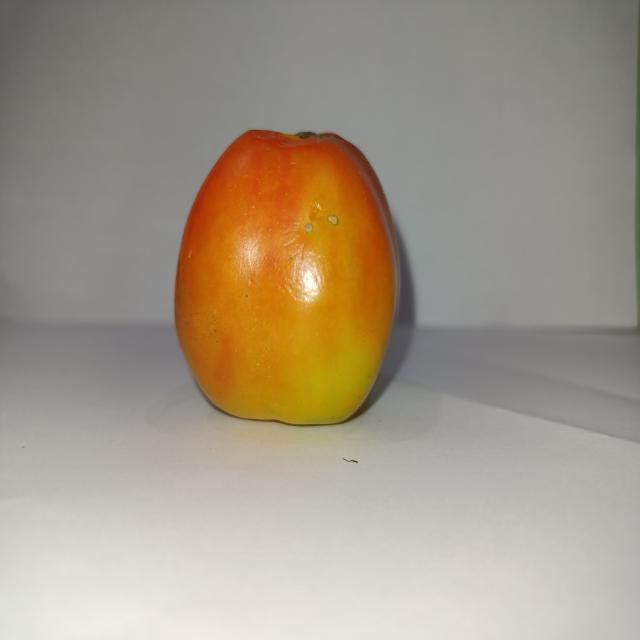Red: (172, 127, 401, 426)
